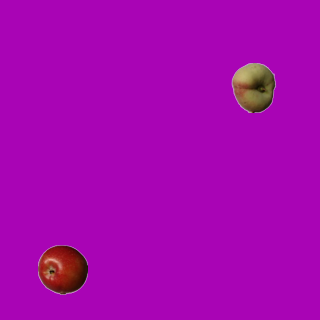Apple Braeburn: (37, 244, 87, 294)
Peach Flat: (228, 62, 278, 112)
